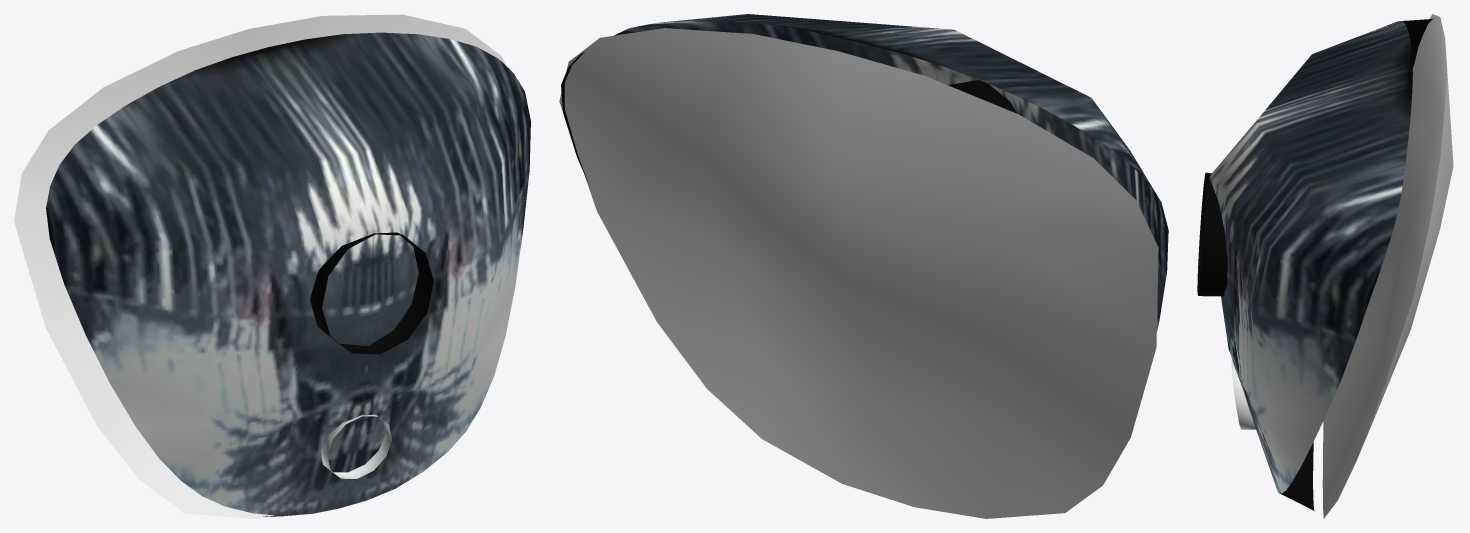
The model's file is Headlamp_STOCK.glb.
The picture shows the model from 3 angles, left to right: view 1: azimuth 30°, elevation 25°; view 2: azimuth 150°, elevation 25°; view 3: azimuth 270°, elevation 25°; orthographic projection. The views are drawn at different scales.
Parts seen in each view (by area): view 1: Headlamp_STOCK, Headlamp_STOCK_GLSS; view 2: Headlamp_STOCK_GLSS, Headlamp_STOCK; view 3: Headlamp_STOCK, Headlamp_STOCK_GLSS.
Part boxes in pixels (x1,y1,x2,y2): Headlamp_STOCK: (46,32,530,516); Headlamp_STOCK_GLSS: (14,14,505,518); Headlamp_STOCK_GLSS: (559,28,1158,518); Headlamp_STOCK: (561,14,1168,332); Headlamp_STOCK: (1197,18,1434,510); Headlamp_STOCK_GLSS: (1322,14,1453,518).
Bounding box in the file's own units: 0.175 × 0.1429 × 0.0804.
6 materials, 1 textured.
